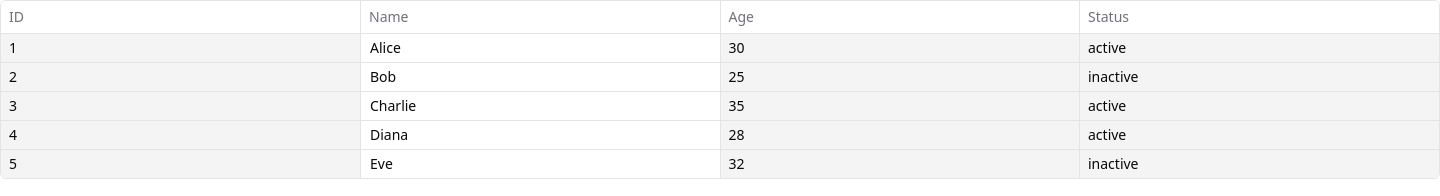
DataTable › should revert value on Escape during edit
Replace the text in the field showing "Alice" next to "30" with "Changed" at (540, 48), box [369,36,712,60]
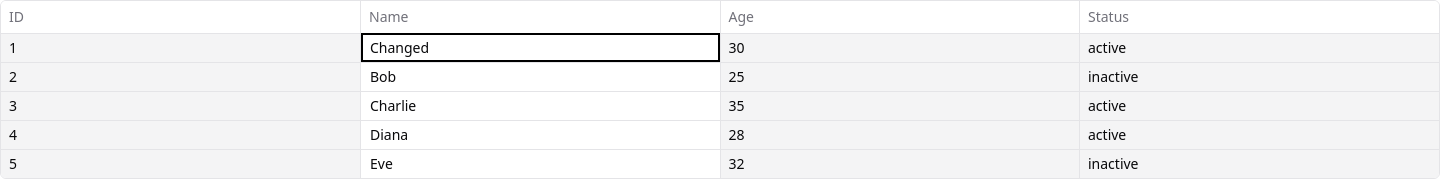
Press Escape
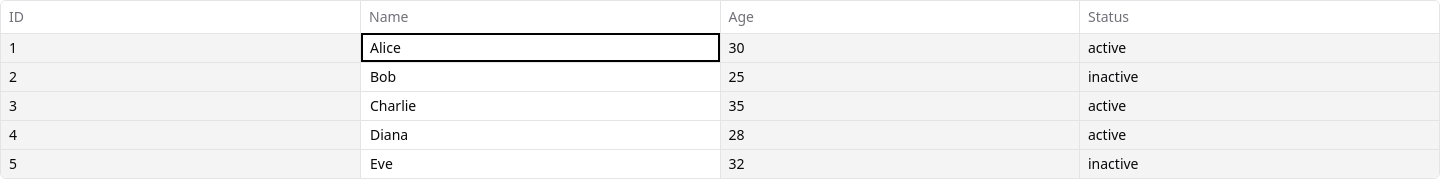
Expected: the field showing "Changed" is not shown
Now the field showing "Alice" next to "30" is shown, box [369,36,712,60]
